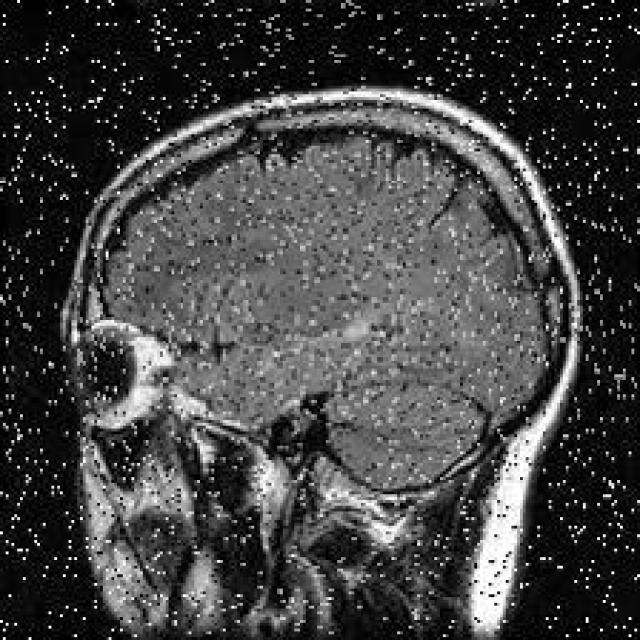no_tumor: (51, 70, 595, 640)
